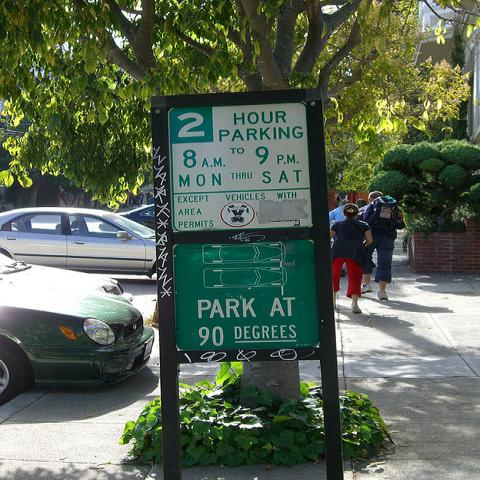car: (3, 238, 152, 404), (0, 208, 160, 280), (70, 273, 134, 303), (116, 203, 155, 230)
